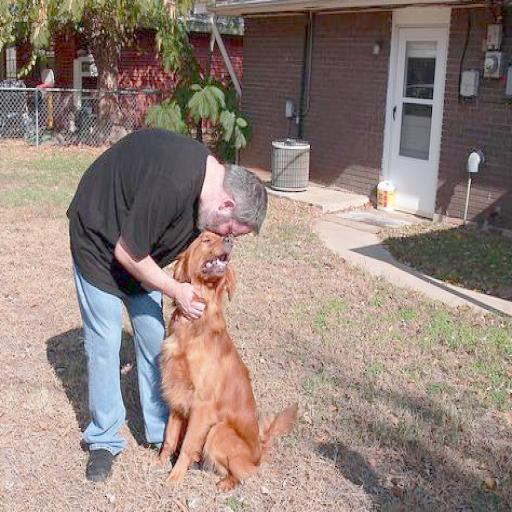dog_face: (176, 226, 249, 300)
